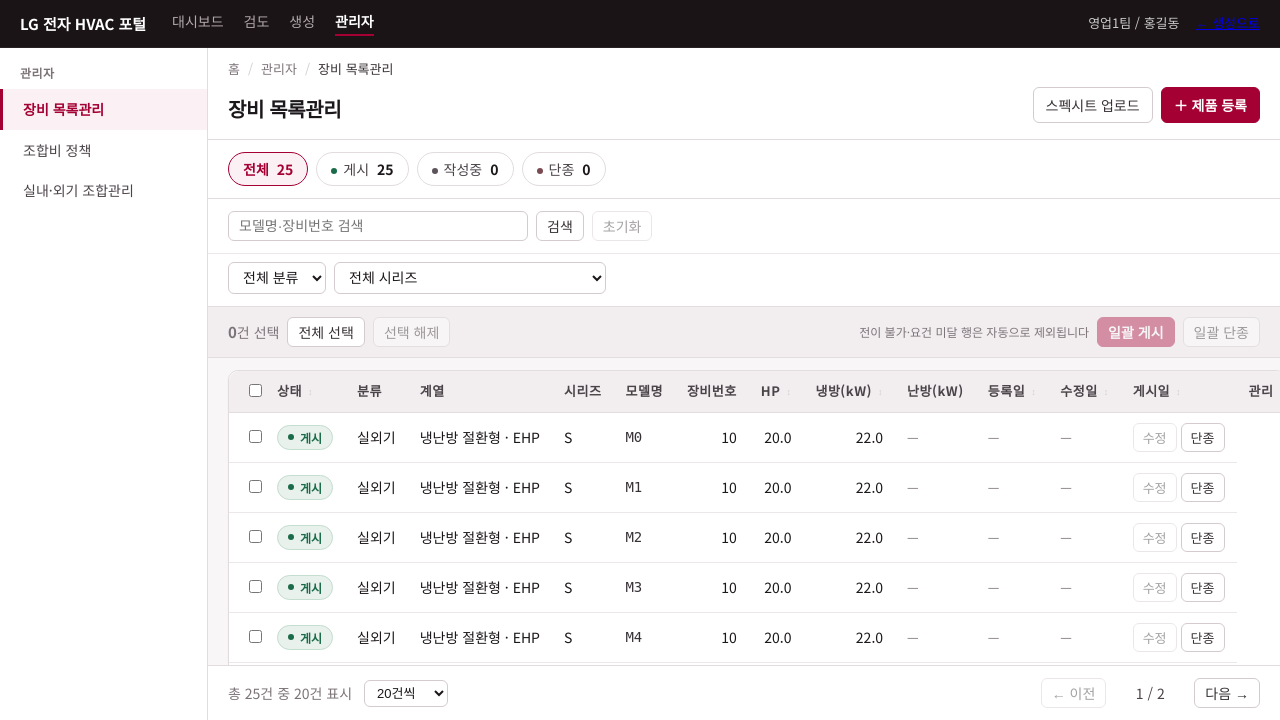
Test case: EquipmentAdminPage (관리 목록) › 표시 건수 드롭다운 › 건수를 바꾸면 첫 페이지로 되돌아간다
The image size is (1280, 720).
Click the button "다음 →" at {"x": 1227, "y": 693}, box x1=1194 y1=678 x2=1260 y2=708
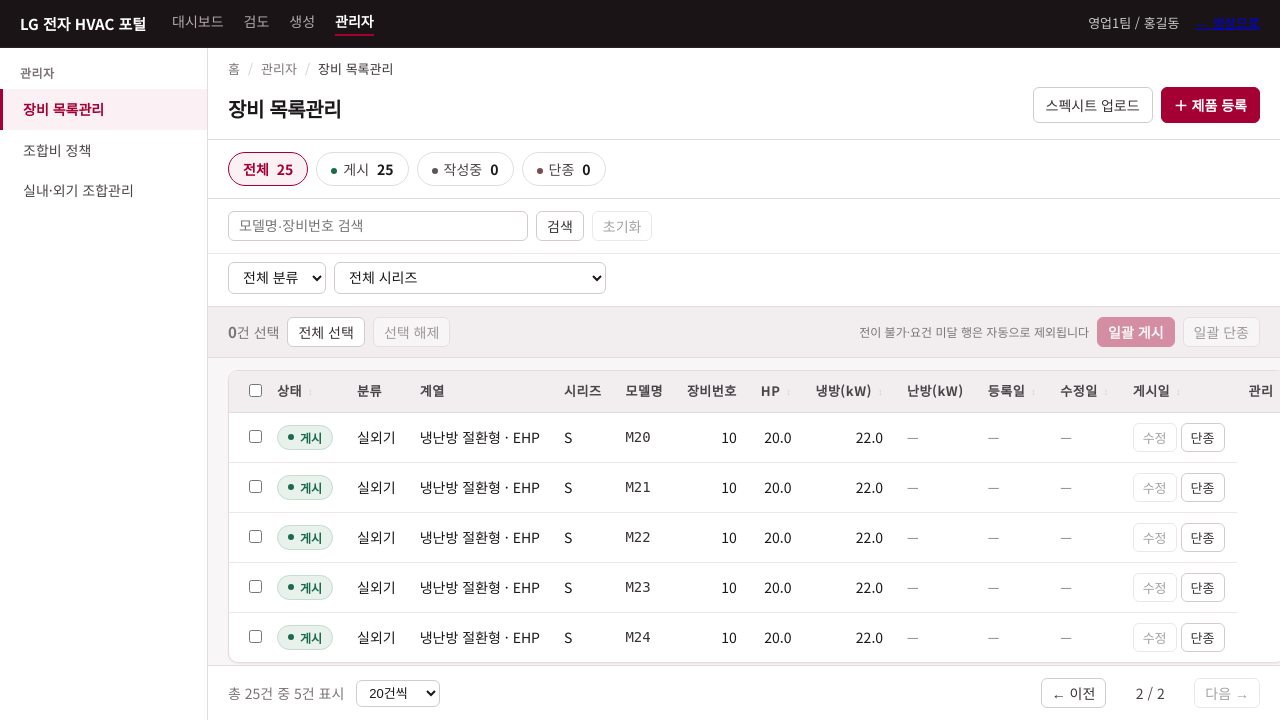
Expected: the text "2 / 2" is shown, x1=1136 y1=683 x2=1165 y2=703
Select "30건씩" in the dropdown named "표시 건수" at {"x": 398, "y": 693}, box x1=356 y1=680 x2=440 y2=706
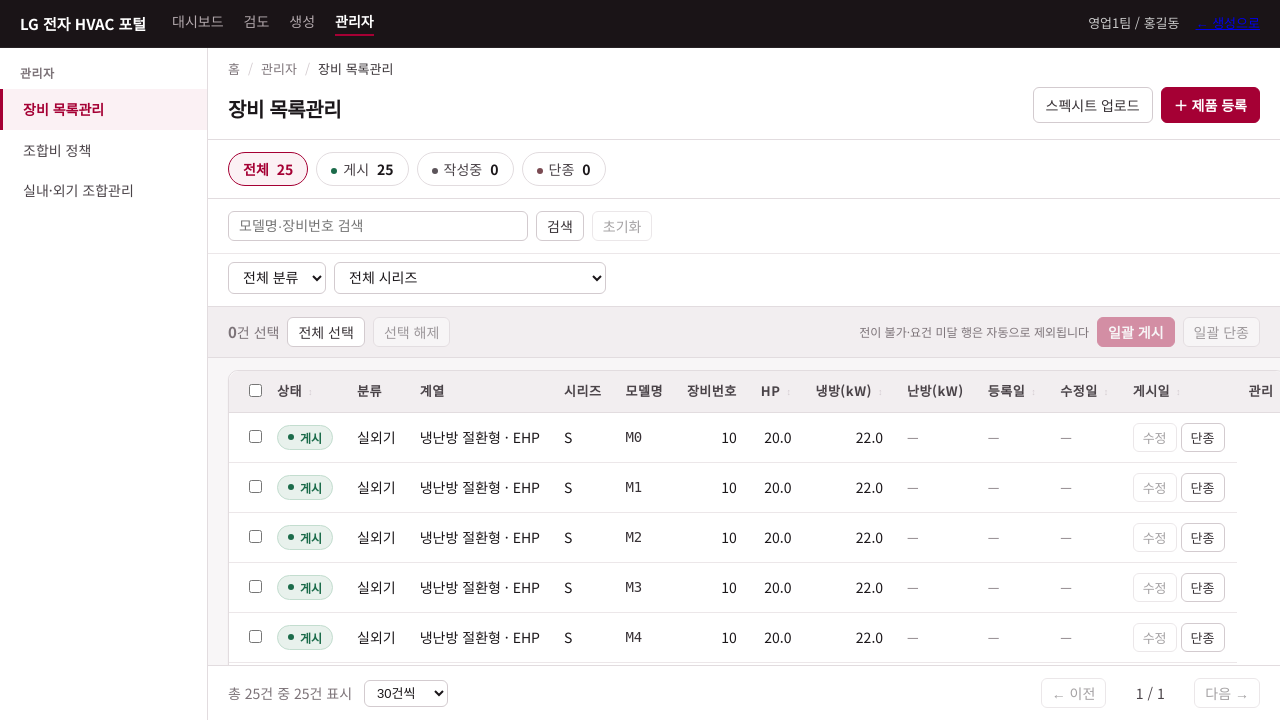
Expected: the text "1 / 1" is shown, x1=1136 y1=683 x2=1165 y2=703
